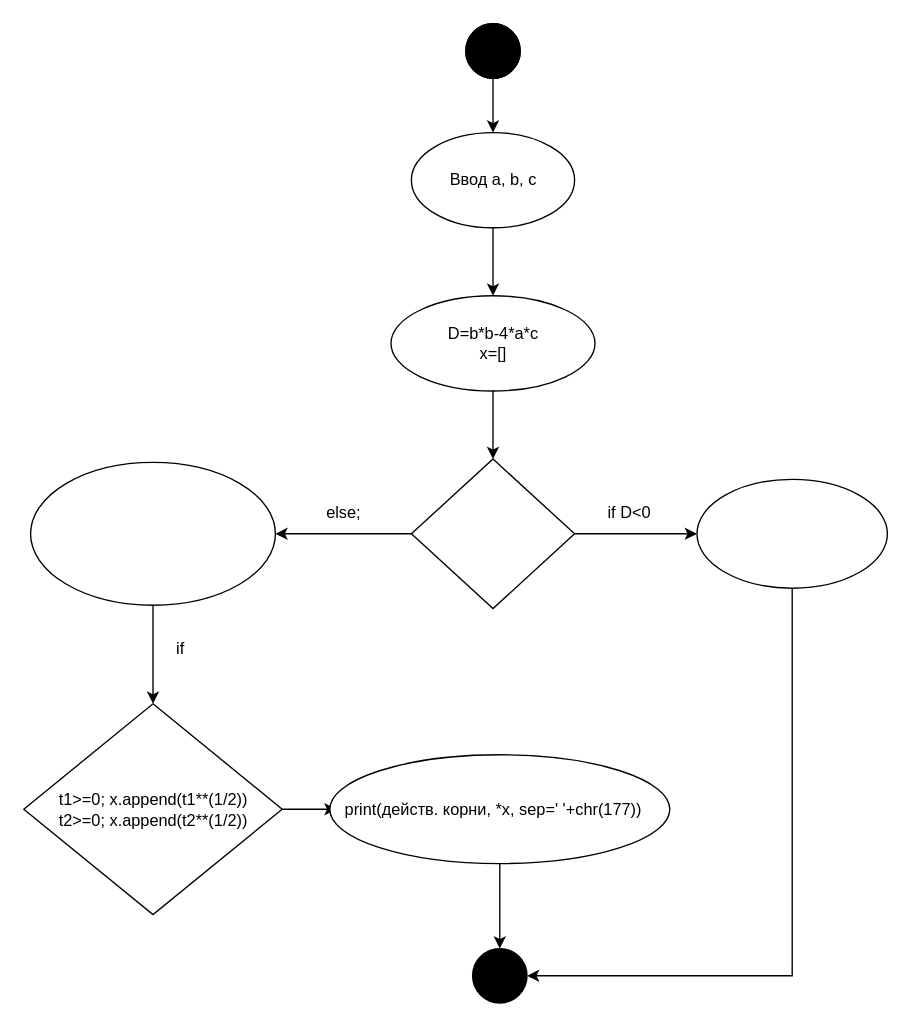
Image size: 911x1027. Some labels were removed from this diagram. The centre of each missing label's shape, as x and y in pixels:
"print(дейсв. корн. нет)" goes at (x=791, y=533).
"t1=(-b+D**(1/2))/(2*c) t2=(-b-D**(1/2))/(2*c)" goes at (x=152, y=533).
